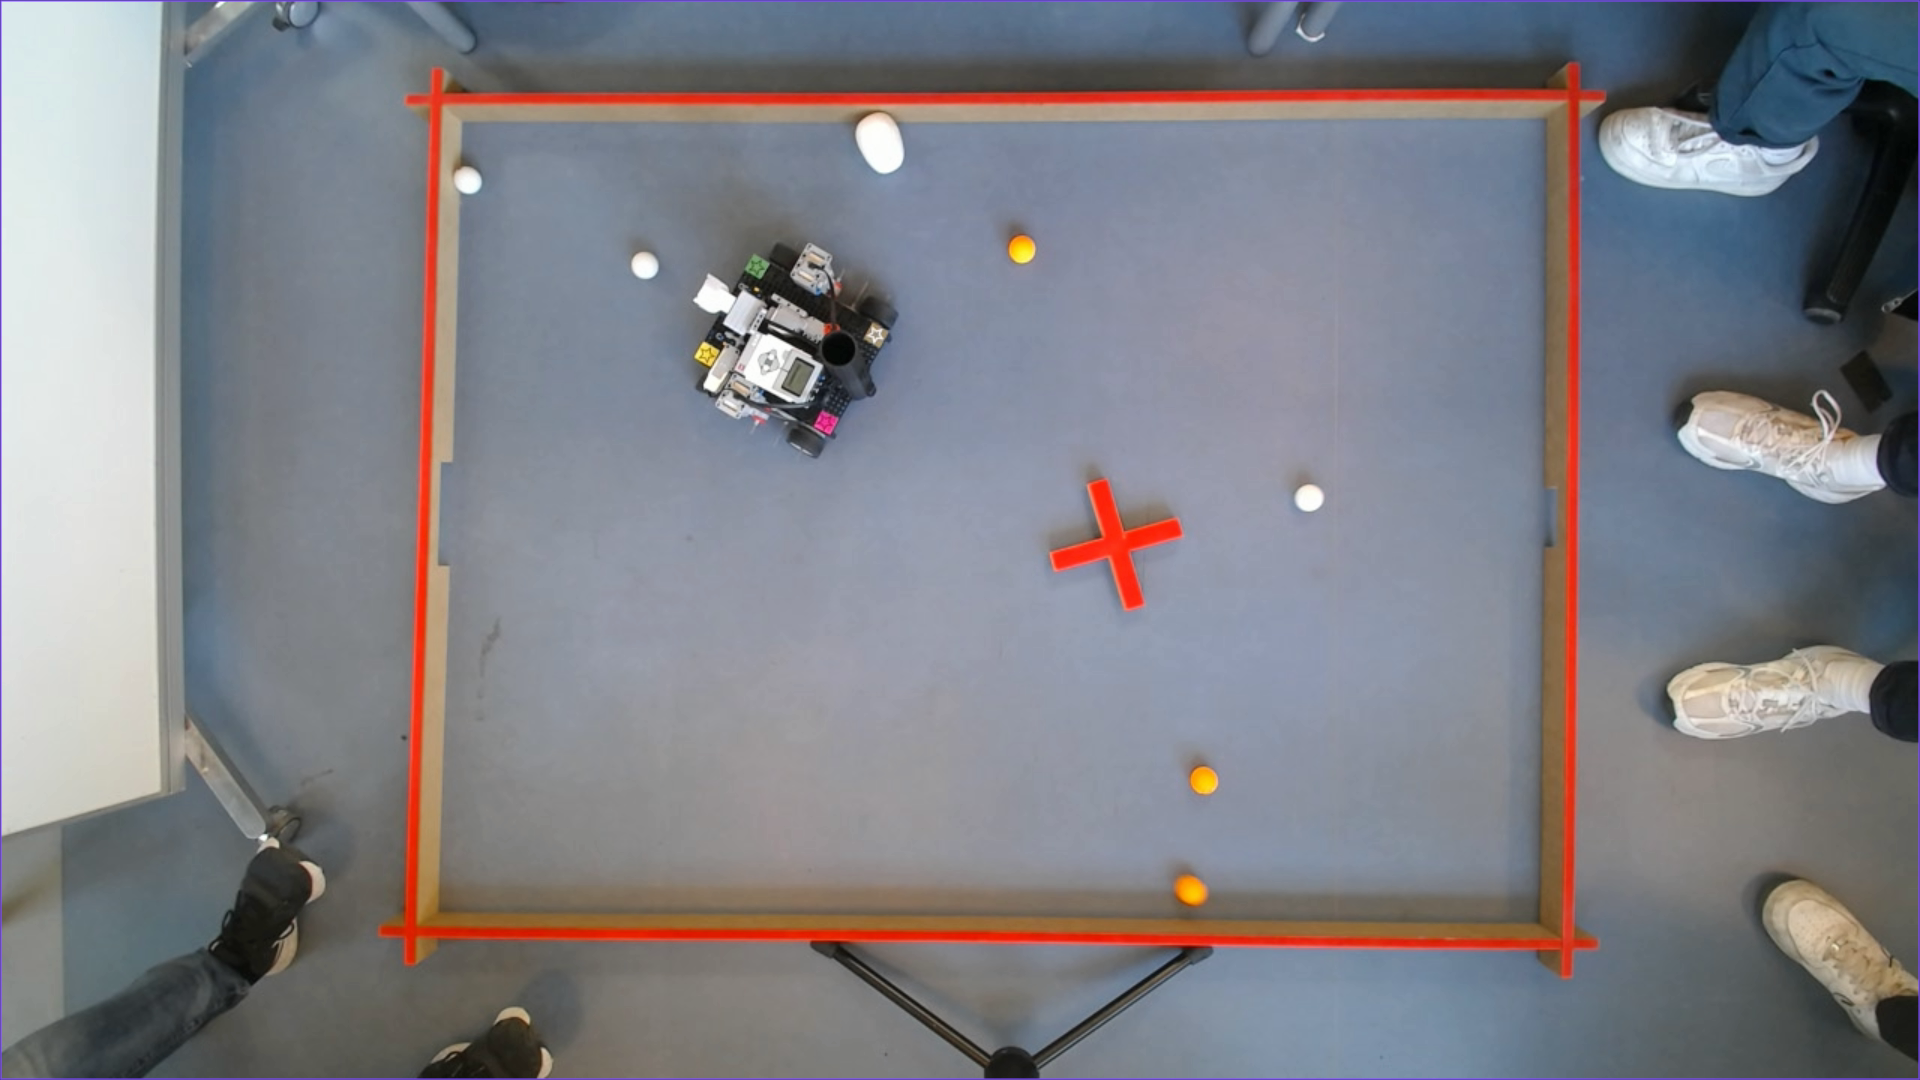ball_orange: (1176, 874, 1211, 907), (1007, 235, 1036, 265), (1189, 766, 1218, 796)
ball_white: (632, 252, 659, 281), (455, 167, 483, 196), (1295, 484, 1324, 512)
corner_brown: (864, 322, 890, 348)
corner_green: (745, 255, 771, 278)
corner_pink: (814, 410, 839, 434)
corner_yellow: (694, 342, 719, 368)
cross: (1051, 477, 1184, 611)
egg: (855, 111, 905, 174)
playfield: (398, 91, 1580, 944)
